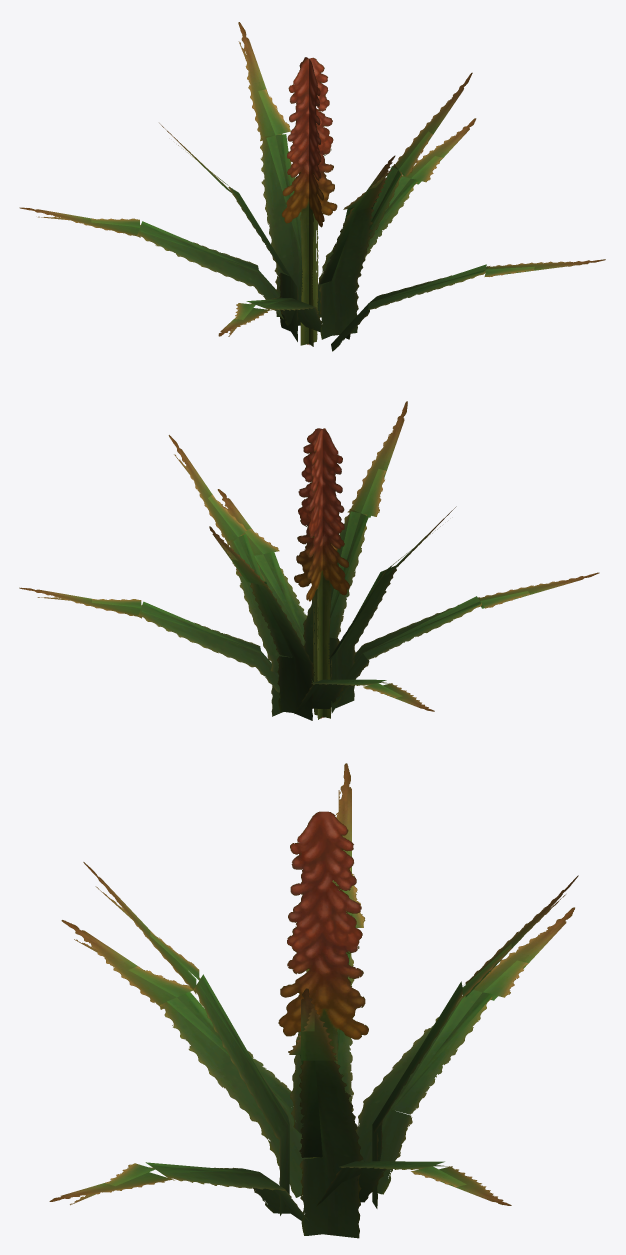
The model's file is aloe.dae.
The picture shows the model from 3 angles, top to bottom: view 1: azimuth 30°, elevation 25°; view 2: azimuth 150°, elevation 25°; view 3: azimuth 270°, elevation 25°; orthographic projection. The views are drawn at different scales.
Visible parts, largest first — view 1: leaf (×21), aloe (×2); view 2: leaf (×21), aloe (×2); view 3: leaf (×23), aloe.
Part boxes in pixels (x1,y1,x2,y2): leaf (×21): (19,22,605,351); aloe (×2): (281,57,337,346); leaf (×21): (19,401,599,720); aloe (×2): (294,428,349,719); leaf (×23): (49,763,578,1238); aloe: (278,811,368,1158).
Size of the model in its own units: 67.01 by 52.98 by 39.37.
1 material, 1 textured.
